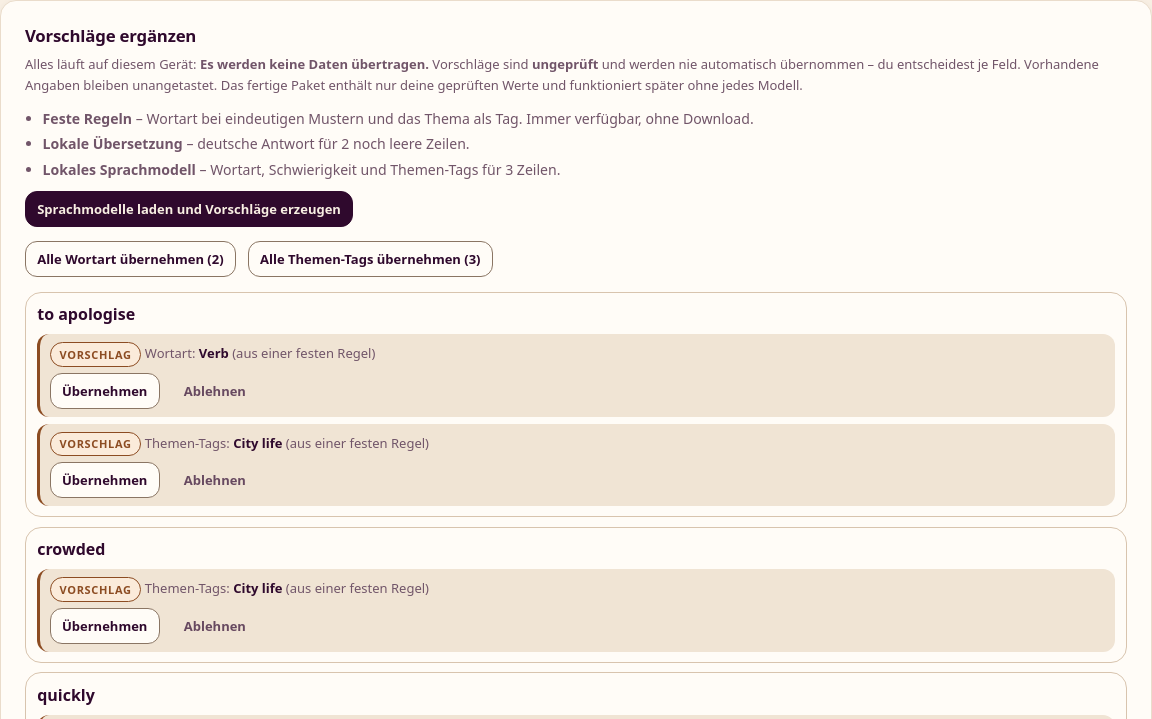
Test: User Activation: beide Anbieter starten im selben Klick › lässt das Sprachmodell arbeiten, wenn die Übersetzung scheitert
Click the button "Sprachmodelle laden und Vorschläge erzeugen".
click(189, 209)  # box [25, 191, 353, 227]
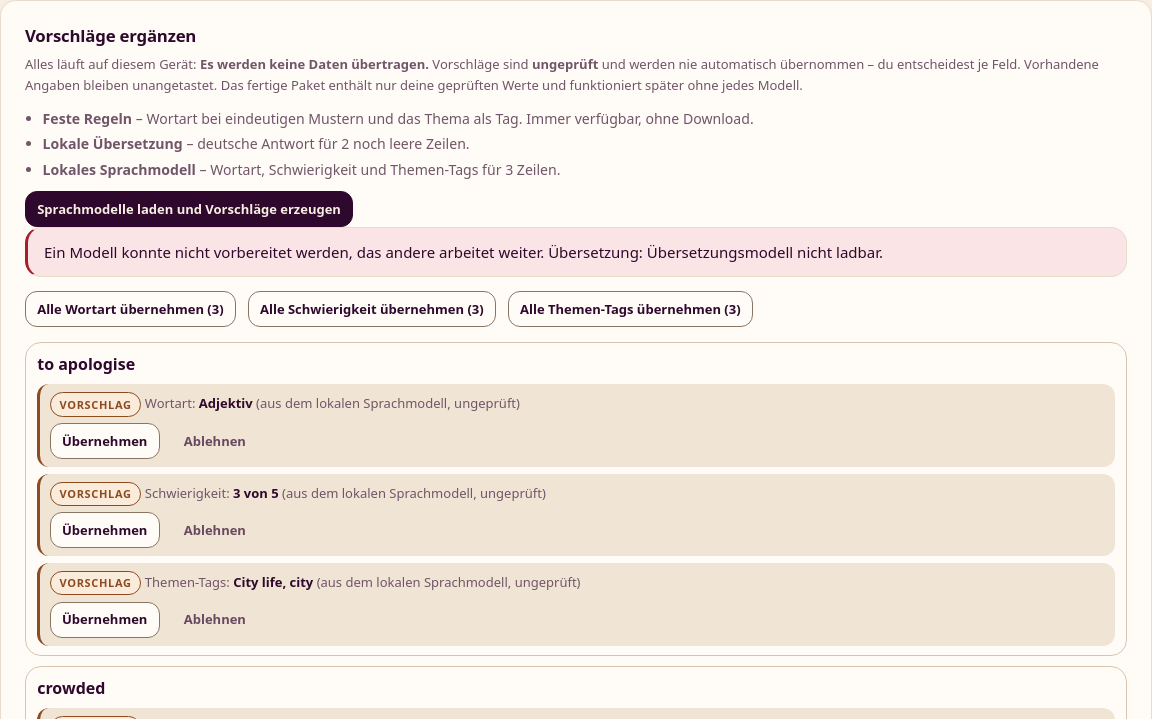
Check: the text "Übersetzungsmodell nicht ladbar" is shown, box [44, 242, 883, 262]
Check: the text "3 von 5" is shown, box [233, 484, 279, 502]
